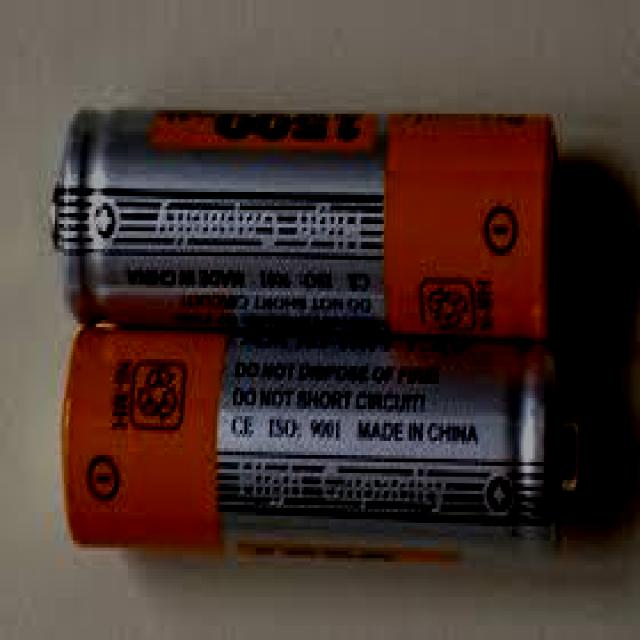AA: (50, 103, 560, 341), (59, 320, 580, 548)
